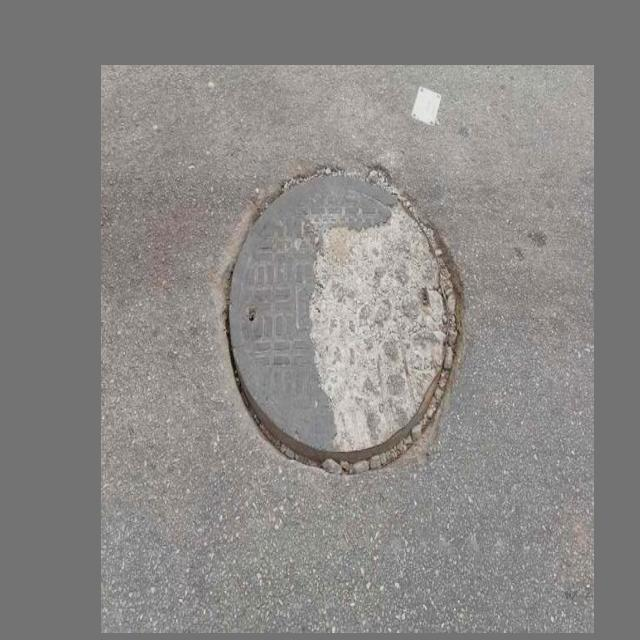circle: (214, 146, 475, 481)
